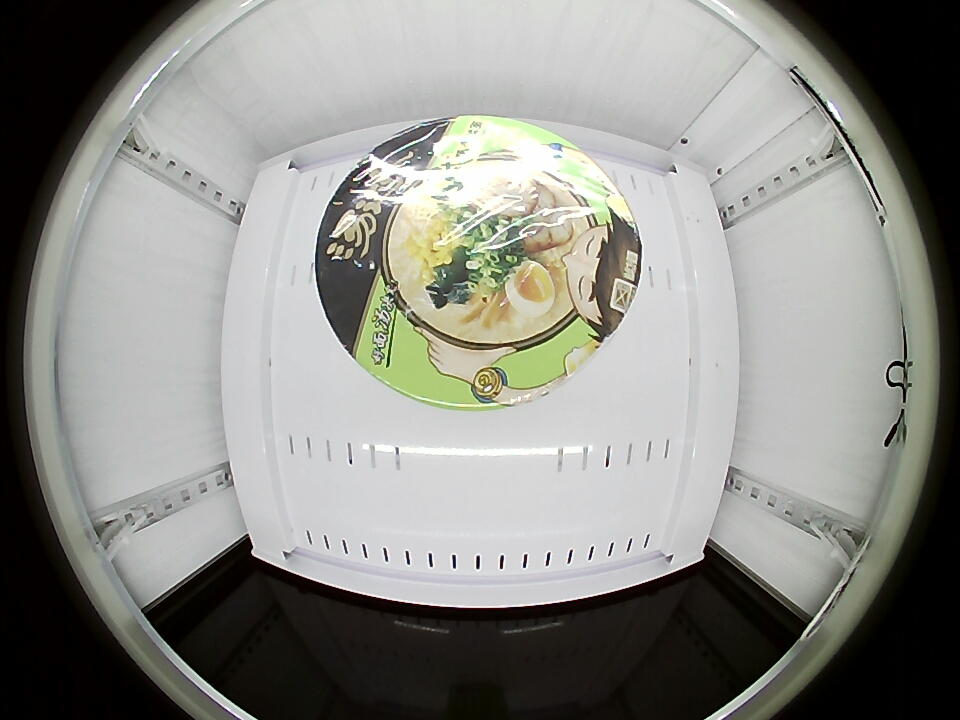tangdaren: (312, 117, 644, 409)
